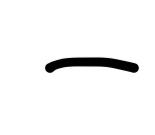minus: (45, 58, 139, 73)
